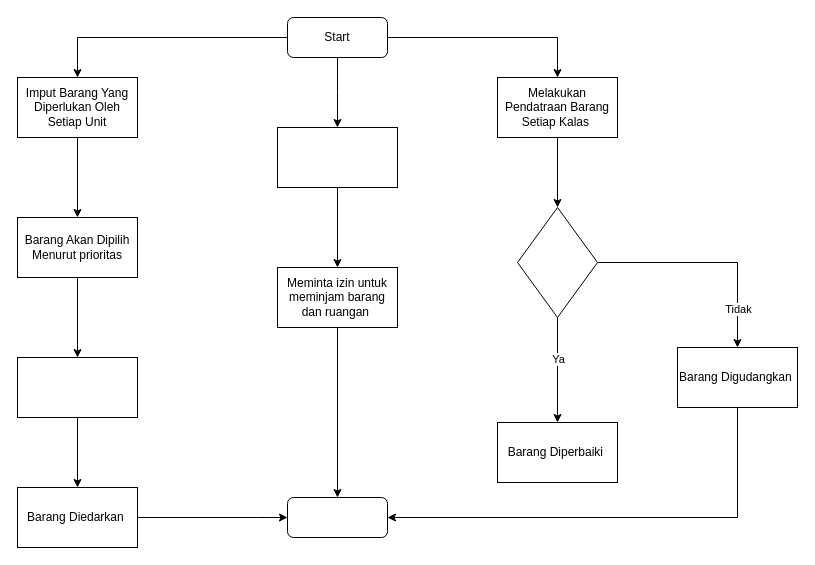
The diagram is 815 pixels wide and 565 high, and some of its shapes have lost their labels. The shapes that lost their labels are listed below. From the top down, each one's centre as x and y in pixels, then its label:
At (x=337, y=157): "Menemui Waka Sapras".
At (x=557, y=262): "Barang Bisa Diperbaiki".
At (x=77, y=387): "Barang Diorder Diaplikasi Siplah".
At (x=337, y=517): "Finish".
